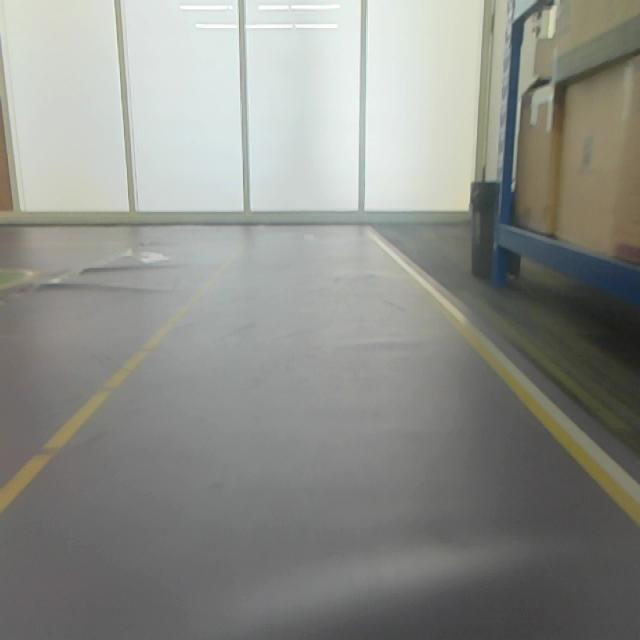left_lane: (1, 248, 241, 511)
right_lane: (370, 235, 639, 525)
